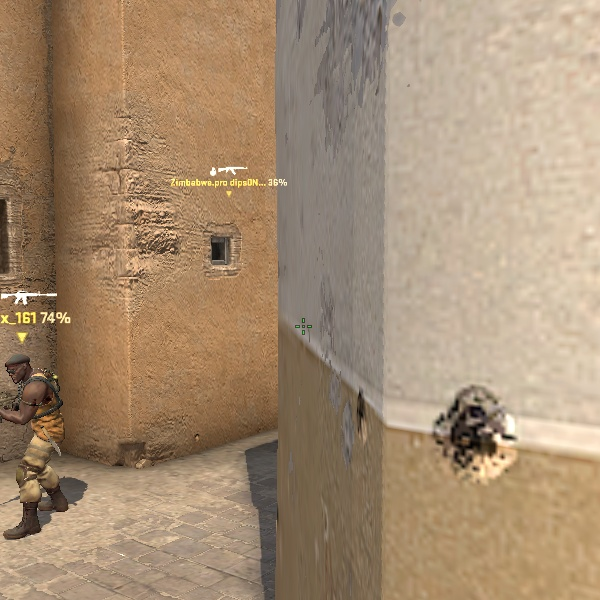t_body: (1, 353, 66, 514)
t_head: (4, 353, 35, 386)
